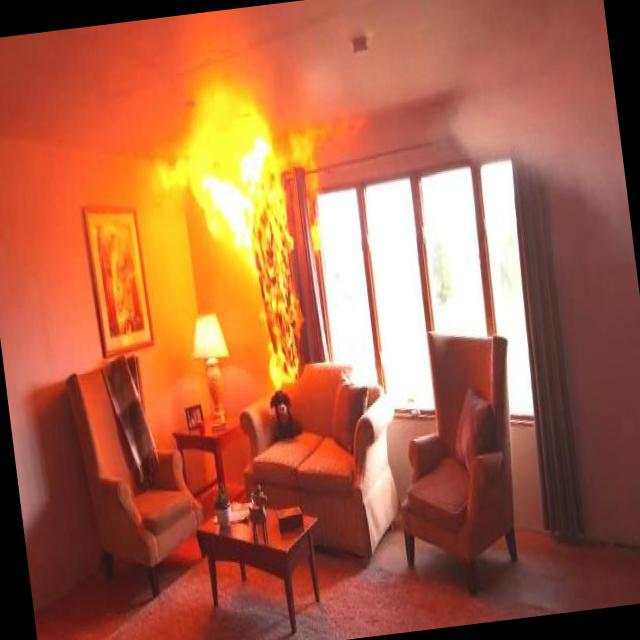Fire_Dangerous: (162, 86, 318, 389)
